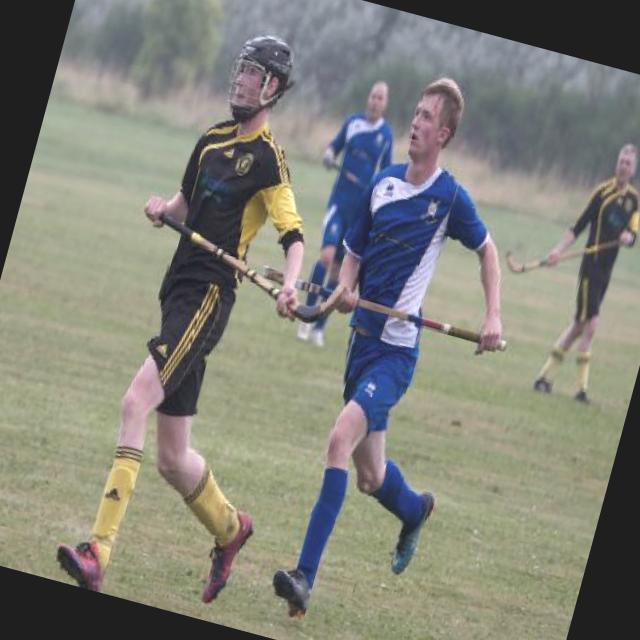Person: (51, 17, 378, 626), (243, 64, 561, 640), (273, 69, 416, 354), (509, 128, 640, 407)
